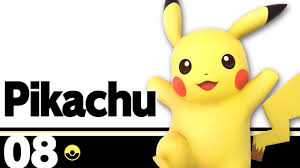pikachu: (145, 1, 299, 167)
